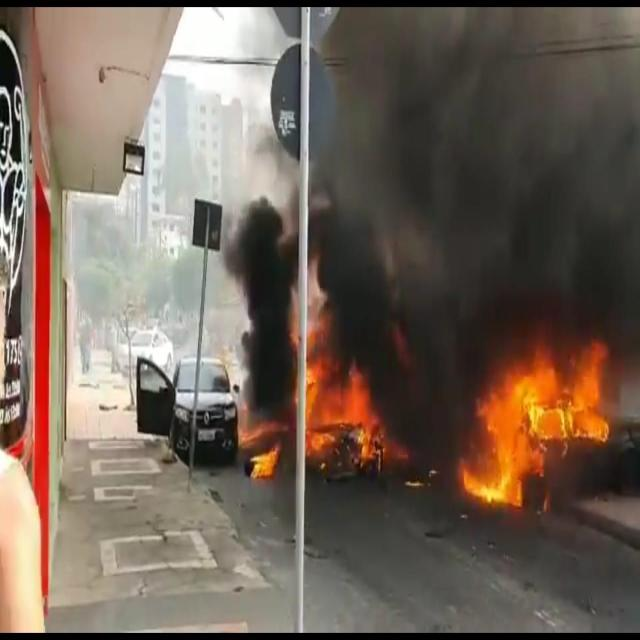Fire: (453, 343, 617, 507), (298, 290, 378, 460), (252, 441, 278, 483)
